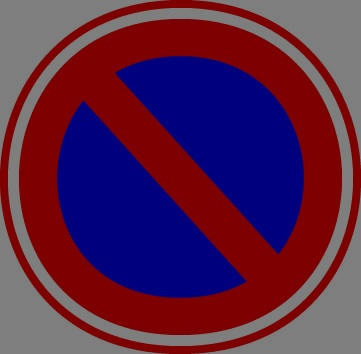Prohibition_sign: (7, 1, 356, 350)
